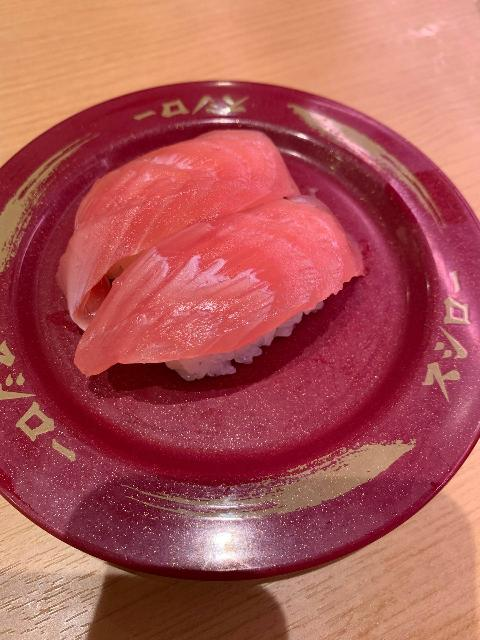janred: (24, 97, 474, 548)
